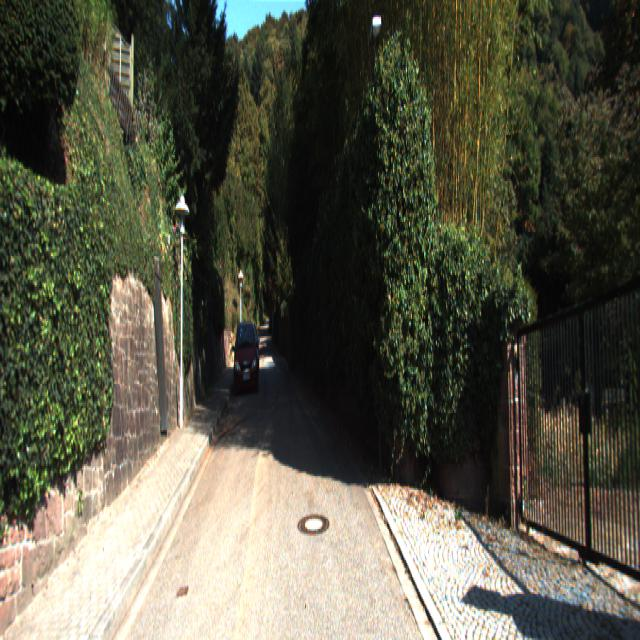Car: (232, 321, 259, 401)
